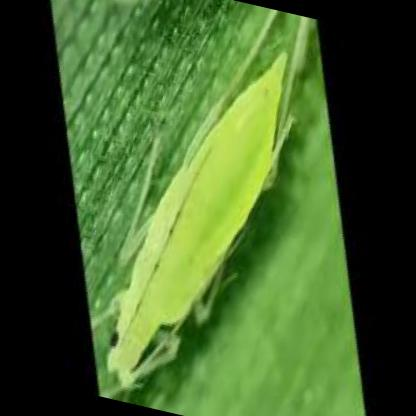schizaphis graminum: (104, 55, 286, 393)
